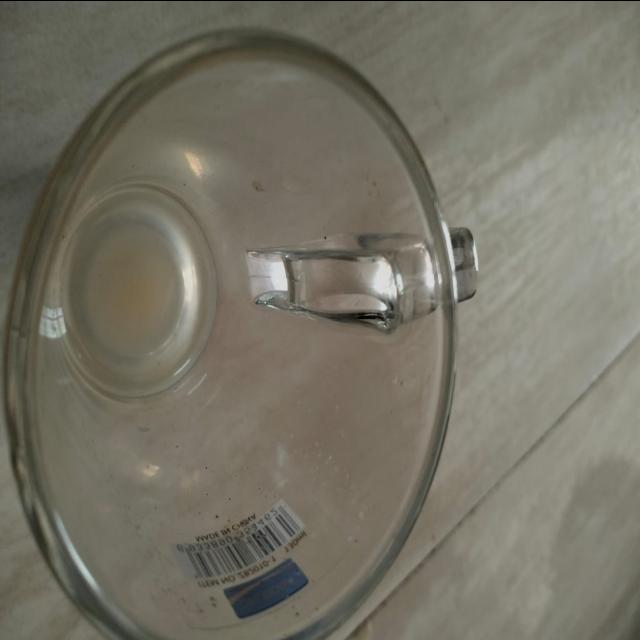glass-VX4N: (0, 28, 488, 640)
